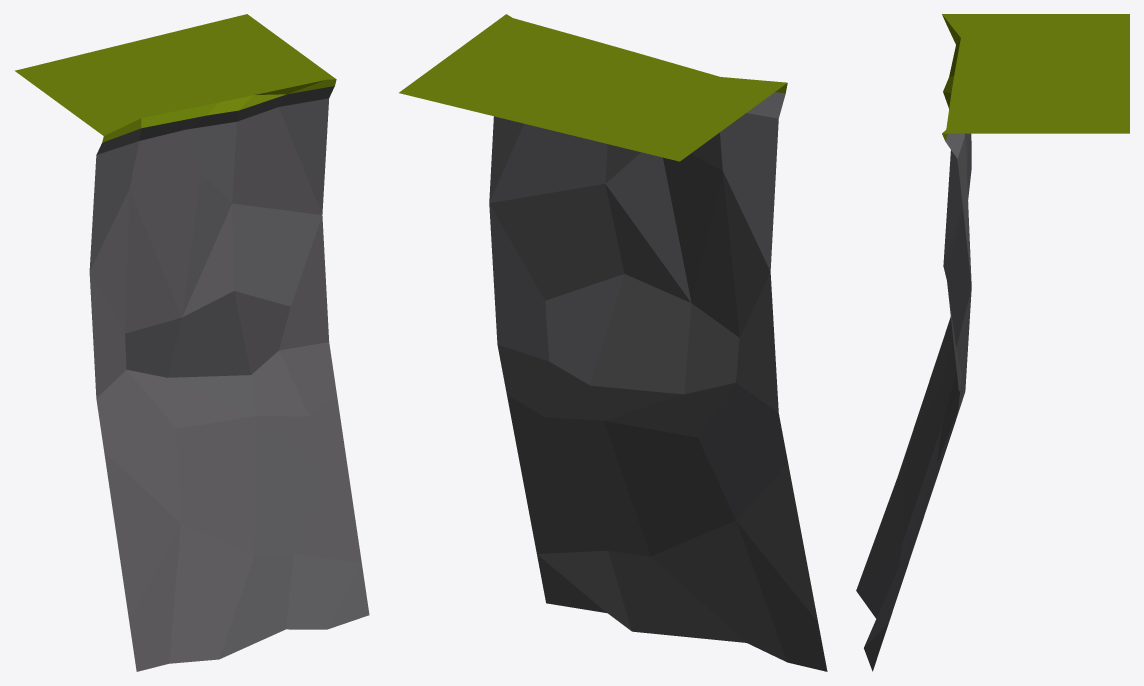
Rendered from mesh_cliff_4x1m_03.fbx.
3 views of the same model, side by side, from view 1: azimuth 30°, elevation 25°; view 2: azimuth 150°, elevation 25°; view 3: azimuth 270°, elevation 25° (orthographic). The views are drawn at different scales.
Visible parts, largest first — view 1: mesh_cliff_4x1m_03; view 2: mesh_cliff_4x1m_03; view 3: mesh_cliff_4x1m_03.
Boxes of the visible parts, x1,y1,x2,y2 form: mesh_cliff_4x1m_03: (14,14,369,671); mesh_cliff_4x1m_03: (399,14,827,671); mesh_cliff_4x1m_03: (856,14,1129,671).
Size of the model in its own units: 200 by 420 by 194.
